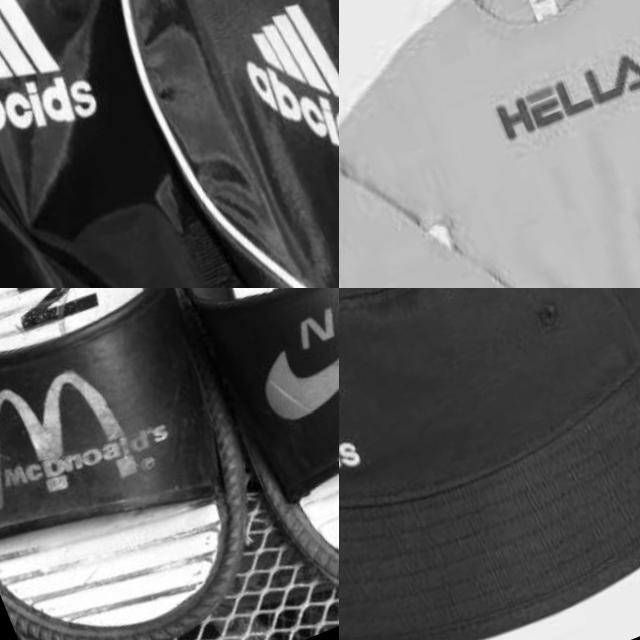ADIDAS_fake: (196, 0, 339, 254), (0, 0, 117, 180)
ADIDAS_original: (339, 303, 380, 509)
FILA_fake: (464, 0, 640, 165)
NIKE_fake: (224, 288, 339, 445)
